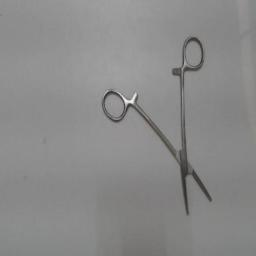Mayo Needle Holder: (99, 33, 217, 229)
